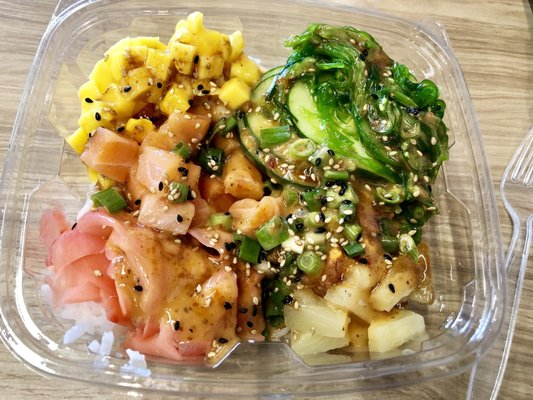sushi: (6, 4, 524, 384)
